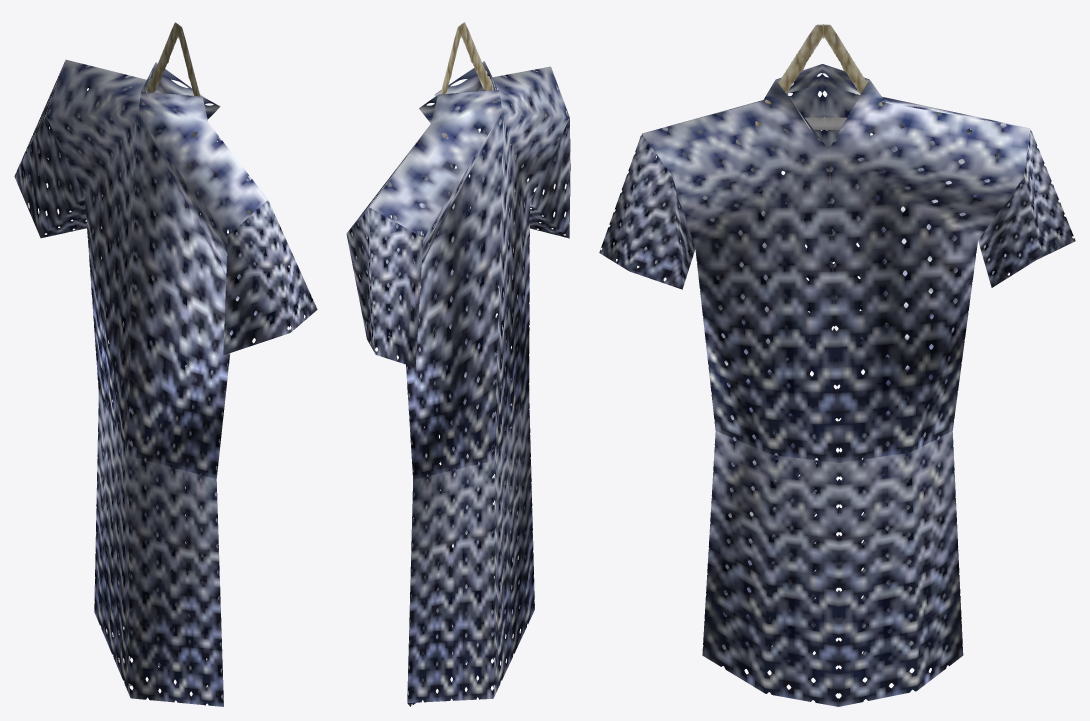
Rendered from armormailhangingbluelong.obj.
3 renders of one model, left to right at view 1: azimuth 30°, elevation 25°; view 2: azimuth 150°, elevation 25°; view 3: azimuth 270°, elevation 25°, orthographic. The views are drawn at different scales.
Visible parts, largest first — view 1: armormailhangingbluelong; view 2: armormailhangingbluelong; view 3: armormailhangingbluelong.
Part boxes in pixels (left/top/right/bottom): armormailhangingbluelong: left=14, top=22, right=317, bottom=706; armormailhangingbluelong: left=346, top=22, right=570, bottom=706; armormailhangingbluelong: left=599, top=24, right=1075, bottom=706.
Bounding box in the file's own units: 0.1716 × 1.25 × 0.7868.
Materials: 1 (1 with a texture image).
